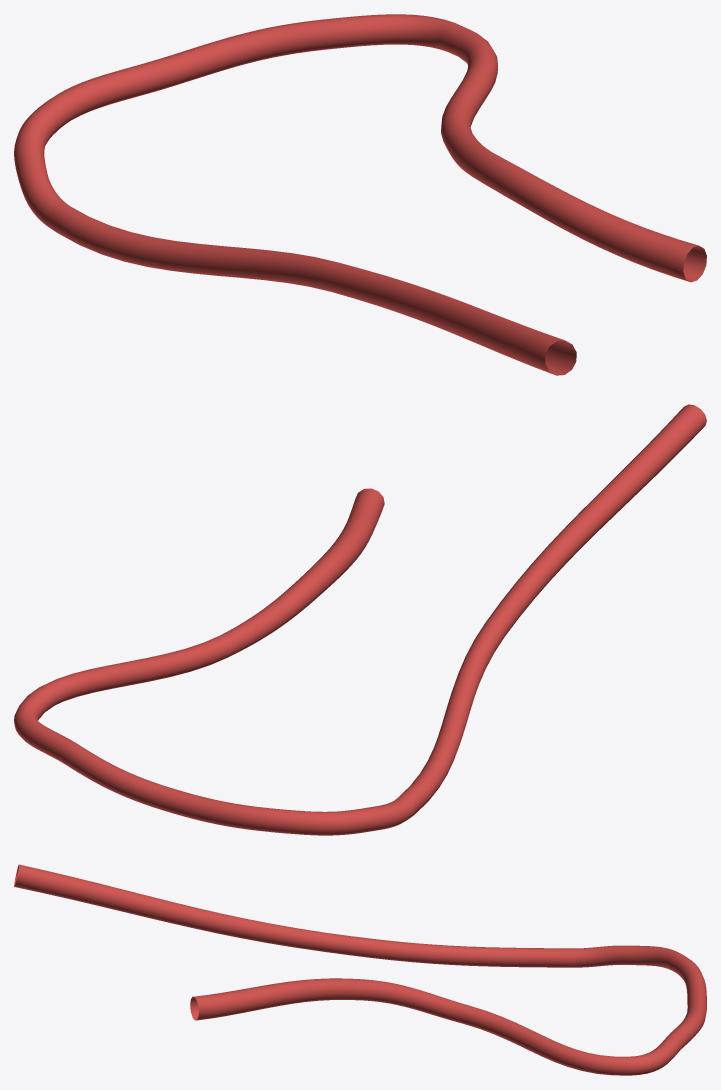
3 views of the same model, one above another, from view 1: azimuth 30°, elevation 25°; view 2: azimuth 150°, elevation 25°; view 3: azimuth 270°, elevation 25° (orthographic). The views are drawn at different scales.
Visible parts, largest first — view 1: 右侧掌浅弓; view 2: 右侧掌浅弓; view 3: 右侧掌浅弓.
Boxes of the visible parts, <box> form: 右侧掌浅弓: <box>14,14,706,375</box>; 右侧掌浅弓: <box>14,404,706,835</box>; 右侧掌浅弓: <box>14,864,706,1075</box>.
Size of the model in its own units: 0.0519 by 0.0204 by 0.1043.
